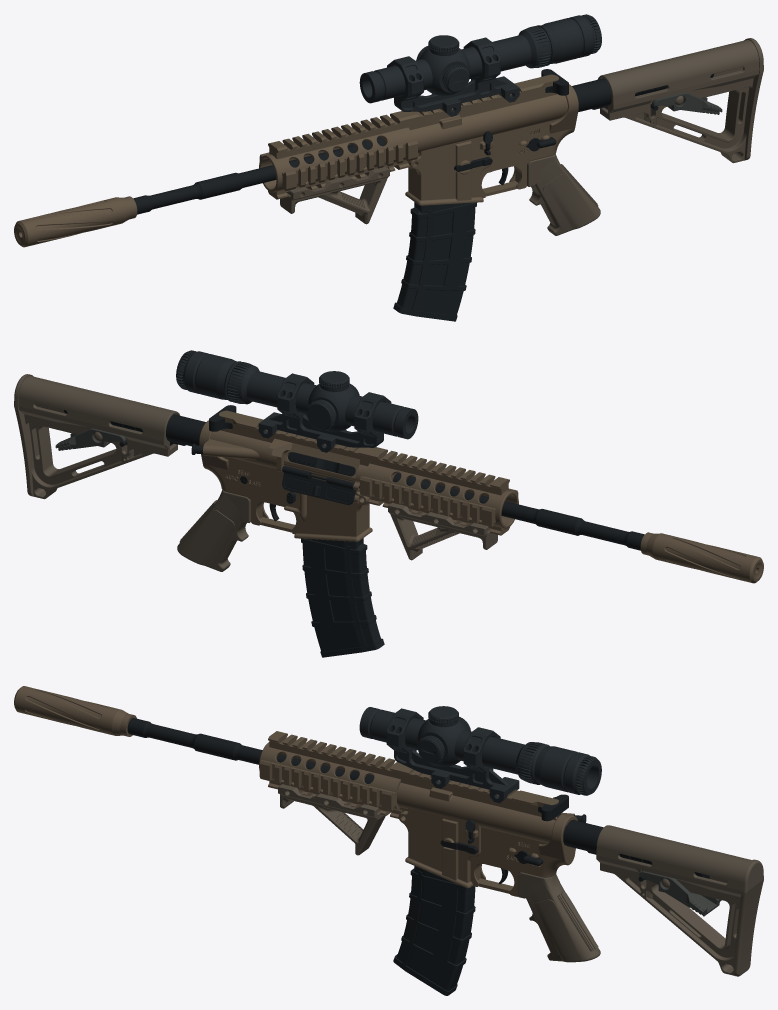
The model's file is AR-15_Assembly_Web.glb.
The picture shows the model from 3 angles, top to bottom: view 1: azimuth 30°, elevation 25°; view 2: azimuth 150°, elevation 25°; view 3: azimuth 330°, elevation 25°; orthographic projection.
Visible parts, largest first — view 1: Magpul MOE Carbine-1, Vortex Razor HD Gen III 1-10X24 Assembly-1/Vortex Razor HD G (×3), AR-15 Standard Handguard-1, AR15 Lower Receiver-1, PMAG 30 Gen M3 AR-15 Body-1, AR15 Upper Receiver-1, AR-15 Pistol Grip-1, 5.56 Banish Suppressor-1, AR-15 12.5 Barrel-1, Picatinny Angle Grip-1, Geissele 34MM Assembly-1/Geissele 34MM Body-1, Carbine-1 (+3 smaller); view 2: Magpul MOE Carbine-1, Vortex Razor HD Gen III 1-10X24 Assembly-1/Vortex Razor HD G (×3), AR-15 Standard Handguard-1, PMAG 30 Gen M3 AR-15 Body-1, AR15 Lower Receiver-1, AR15 Upper Receiver-1, AR-15 Pistol Grip-1, 5.56 Banish Suppressor-1, AR-15 12.5 Barrel-1, Picatinny Angle Grip-1, Geissele 34MM Assembly-1/Geissele 34MM Body-1, AR-15 Dust Cover-1 (+5 smaller); view 3: Magpul MOE Carbine-1, Vortex Razor HD Gen III 1-10X24 Assembly-1/Vortex Razor HD G (×3), AR15 Lower Receiver-1, AR-15 Standard Handguard-1, PMAG 30 Gen M3 AR-15 Body-1, AR15 Upper Receiver-1, AR-15 Pistol Grip-1, 5.56 Banish Suppressor-1, AR-15 12.5 Barrel-1, Geissele 34MM Assembly-1/Geissele 34MM Body-1, Picatinny Angle Grip-1, Adjuster-1 (+3 smaller).
Boxes of the visible parts, <box> form: Magpul MOE Carbine-1: <box>597,38,763,163</box>; Vortex Razor HD Gen III 1-10X24 Assembly-1/Vortex Razor HD G (×3): <box>359,14,601,103</box>; AR-15 Standard Handguard-1: <box>259,111,417,199</box>; AR15 Lower Receiver-1: <box>405,84,578,205</box>; PMAG 30 Gen M3 AR-15 Body-1: <box>396,170,476,315</box>; AR15 Upper Receiver-1: <box>381,74,567,155</box>; AR-15 Pistol Grip-1: <box>527,153,600,235</box>; 5.56 Banish Suppressor-1: <box>14,196,137,247</box>; AR-15 12.5 Barrel-1: <box>133,137,385,214</box>; Picatinny Angle Grip-1: <box>280,166,389,224</box>; Geissele 34MM Assembly-1/Geissele 34MM Body-1: <box>394,60,519,116</box>; Carbine-1: <box>572,74,713,111</box>; Magpul MOE Carbine-1: <box>14,374,180,499</box>; Vortex Razor HD Gen III 1-10X24 Assembly-1/Vortex Razor HD G (×3): <box>176,350,418,439</box>; AR-15 Standard Handguard-1: <box>360,447,518,535</box>; PMAG 30 Gen M3 AR-15 Body-1: <box>301,538,381,651</box>; AR15 Lower Receiver-1: <box>199,420,372,541</box>; AR15 Upper Receiver-1: <box>203,410,396,492</box>; AR-15 Pistol Grip-1: <box>177,490,250,571</box>; 5.56 Banish Suppressor-1: <box>640,532,763,583</box>; AR-15 12.5 Barrel-1: <box>392,473,644,550</box>; Picatinny Angle Grip-1: <box>388,502,497,560</box>; Geissele 34MM Assembly-1/Geissele 34MM Body-1: <box>258,396,383,452</box>; AR-15 Dust Cover-1: <box>282,466,355,504</box>; Magpul MOE Carbine-1: <box>596,825,763,976</box>; Vortex Razor HD Gen III 1-10X24 Assembly-1/Vortex Razor HD G (×3): <box>359,706,601,795</box>; AR15 Lower Receiver-1: <box>398,810,577,896</box>; AR-15 Standard Handguard-1: <box>259,731,404,818</box>; PMAG 30 Gen M3 AR-15 Body-1: <box>396,866,475,990</box>; AR15 Upper Receiver-1: <box>397,765,574,844</box>; AR-15 Pistol Grip-1: <box>518,872,600,962</box>; 5.56 Banish Suppressor-1: <box>14,686,136,736</box>; AR-15 12.5 Barrel-1: <box>127,718,374,783</box>; Geissele 34MM Assembly-1/Geissele 34MM Body-1: <box>386,731,519,803</box>; Picatinny Angle Grip-1: <box>278,784,385,855</box>; Adjuster-1: <box>639,871,721,916</box>.
Bounding box in the file's own units: 0.151 × 0.0547 × 0.0123.
